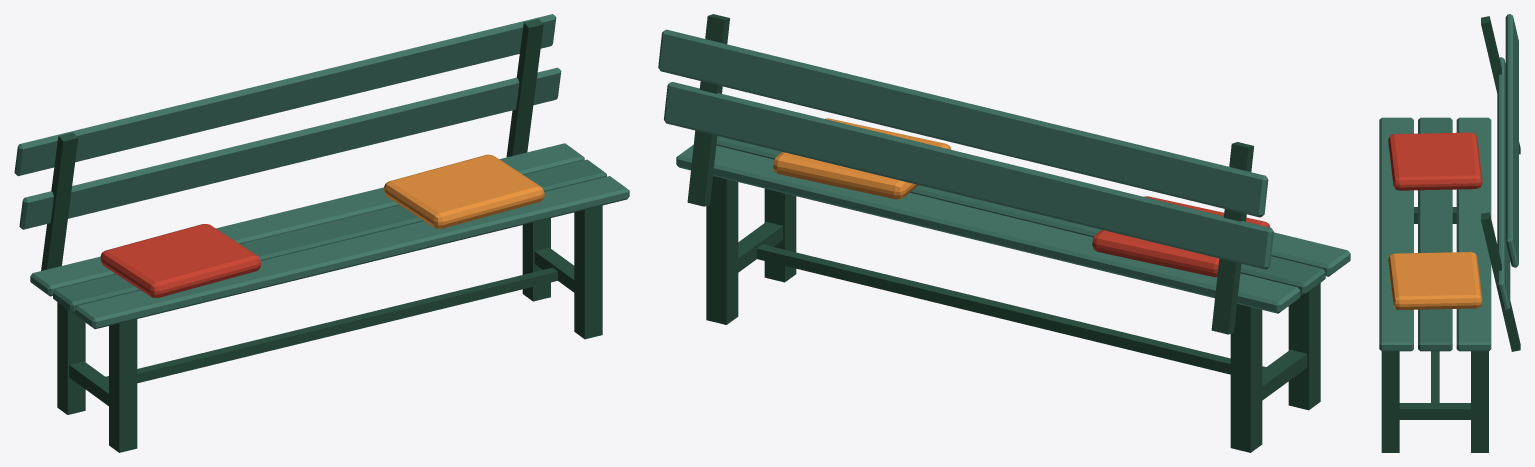
File: bang_ghe.glb
3 renders of one model, left to right at view 1: azimuth 30°, elevation 25°; view 2: azimuth 150°, elevation 25°; view 3: azimuth 270°, elevation 25°, orthographic. The views are drawn at different scales.
Parts seen in each view (by area): view 1: van_ghe, chan_ghe, dem_ngoi; view 2: van_ghe, chan_ghe, dem_ngoi; view 3: van_ghe, dem_ngoi, chan_ghe.
Boxes of the visible parts, <box> form: van_ghe: <box>14,14,629,329</box>; chan_ghe: <box>41,19,602,452</box>; dem_ngoi: <box>100,154,544,297</box>; van_ghe: <box>658,29,1350,313</box>; chan_ghe: <box>687,14,1320,452</box>; dem_ngoi: <box>773,118,1270,277</box>; van_ghe: <box>1379,14,1518,351</box>; dem_ngoi: <box>1388,132,1482,309</box>; chan_ghe: <box>1381,16,1520,452</box>.
Bounding box in the file's own units: 1.8 × 0.8677 × 0.4747.
